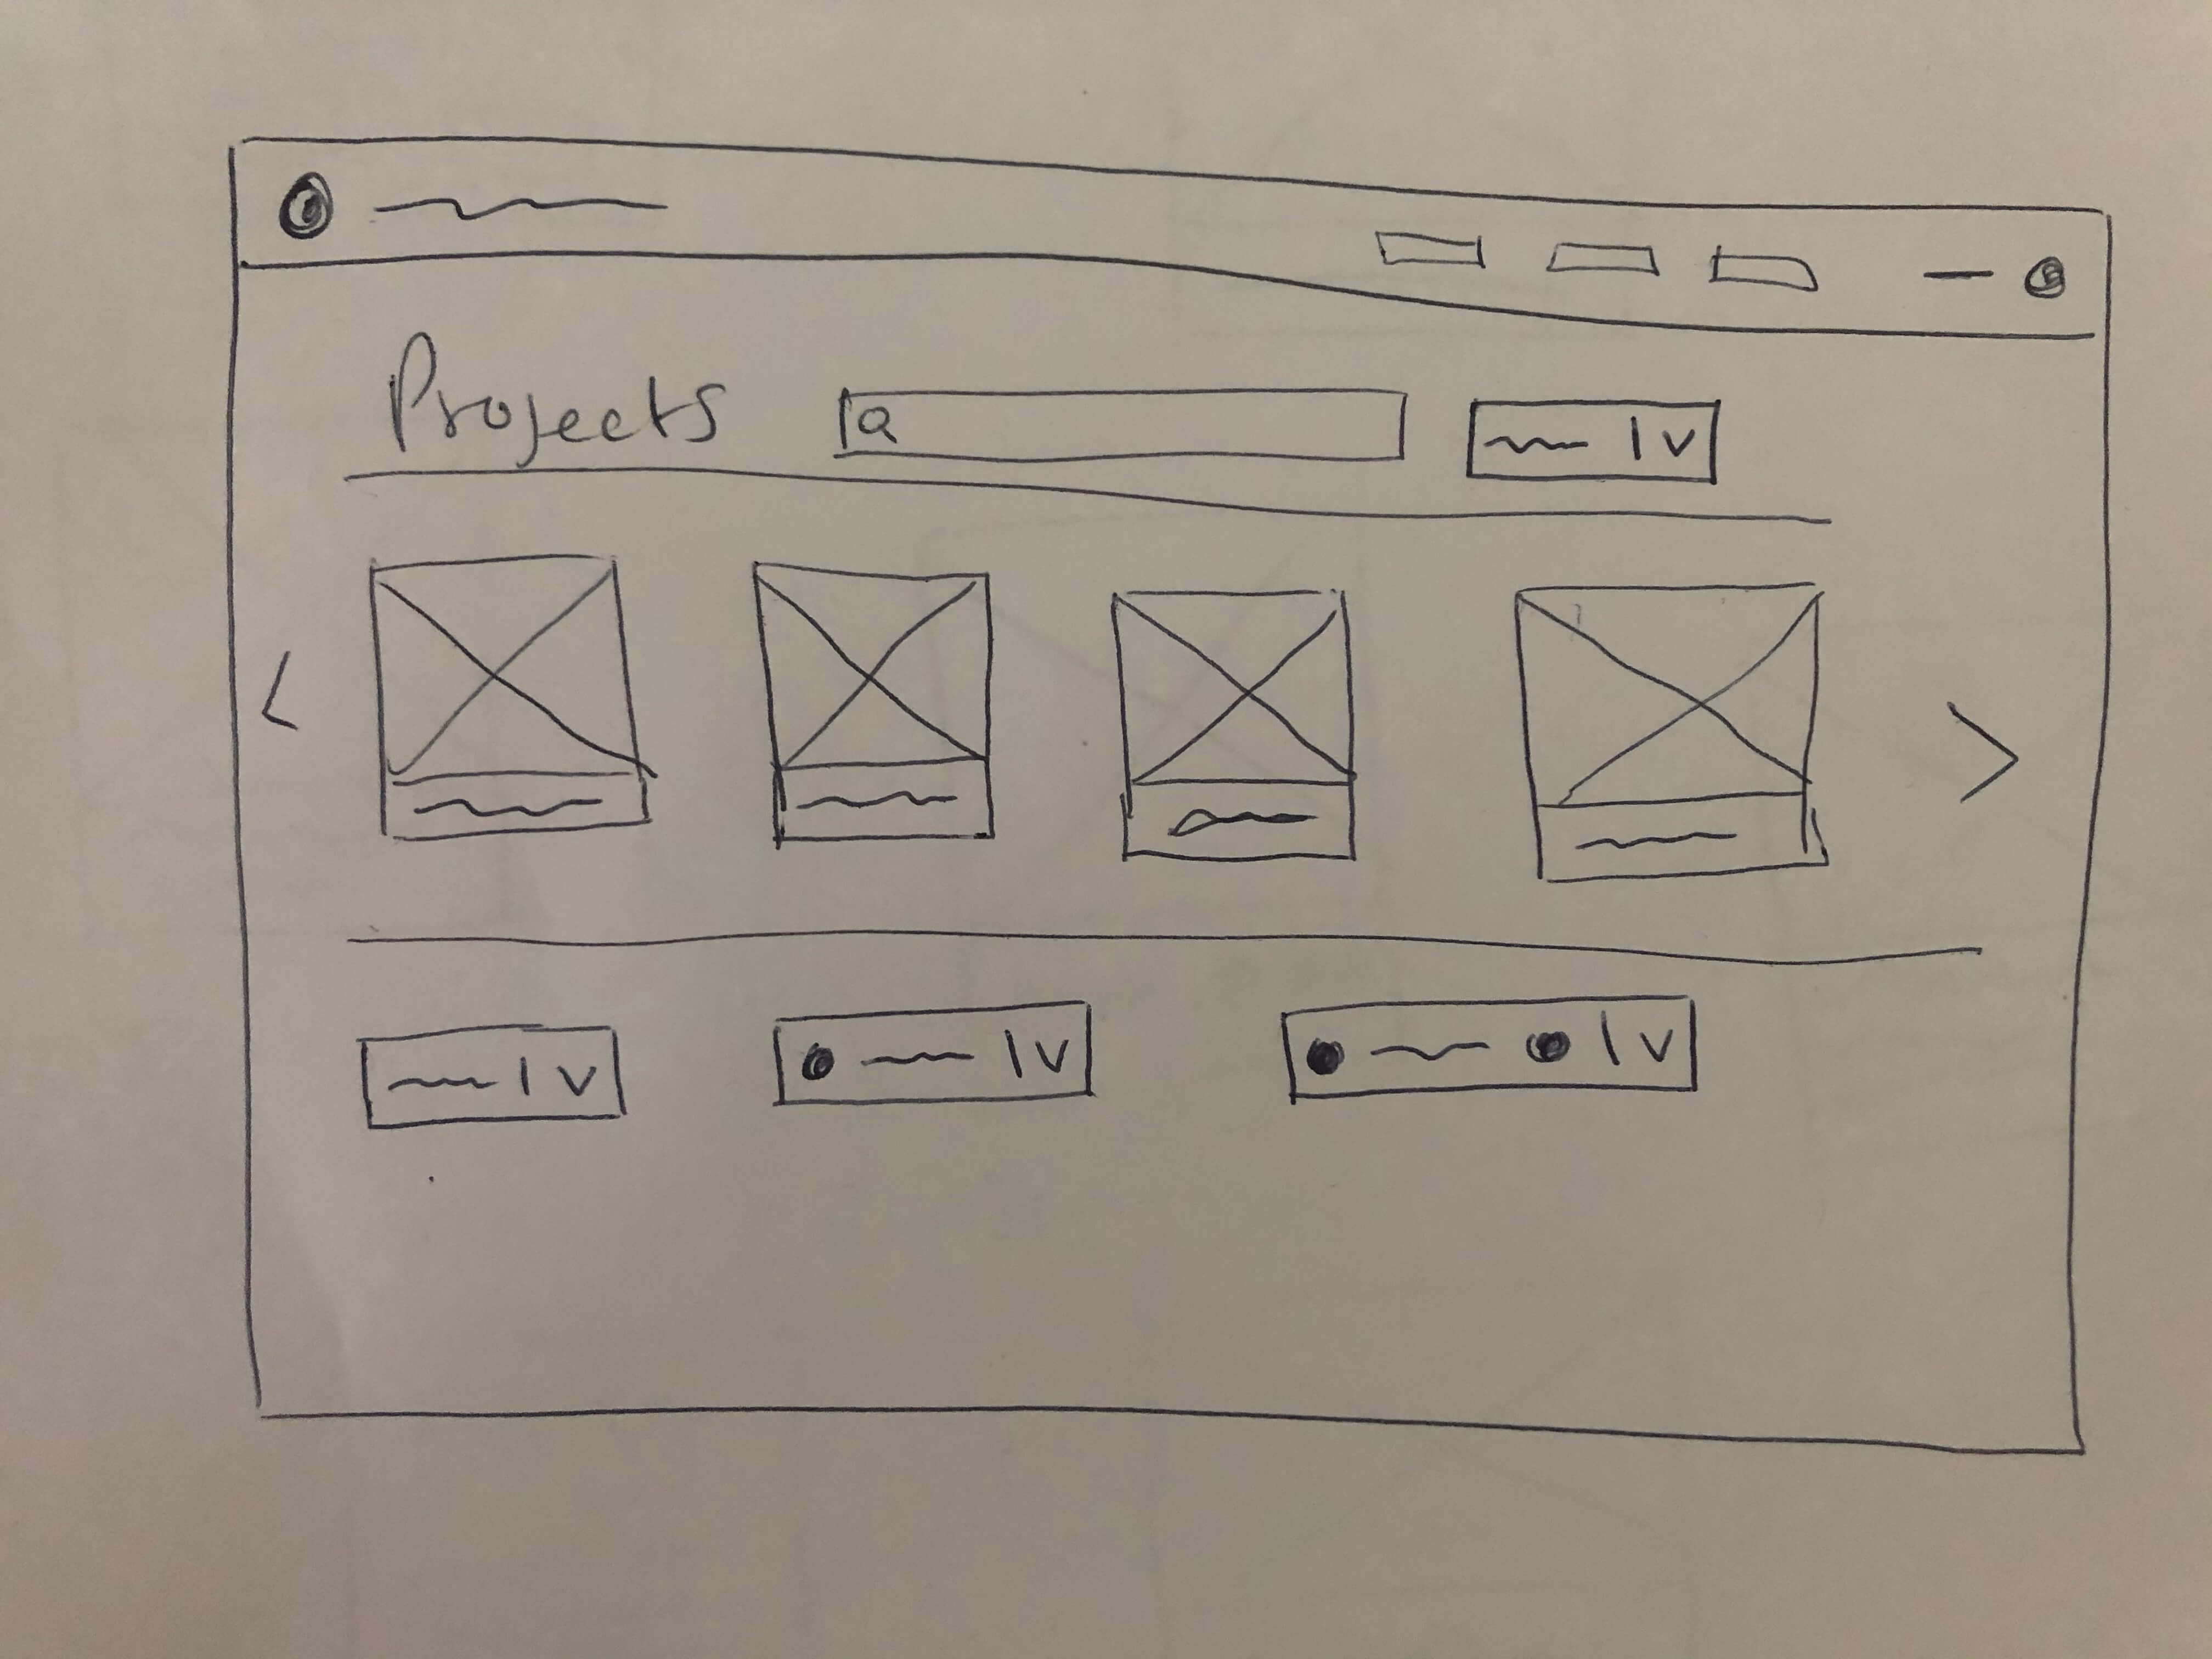card: (1503, 572, 1857, 896), (362, 540, 664, 859), (742, 542, 1019, 868), (1101, 568, 1364, 875)
split-button: (352, 1011, 637, 1140), (1463, 382, 1730, 505)
